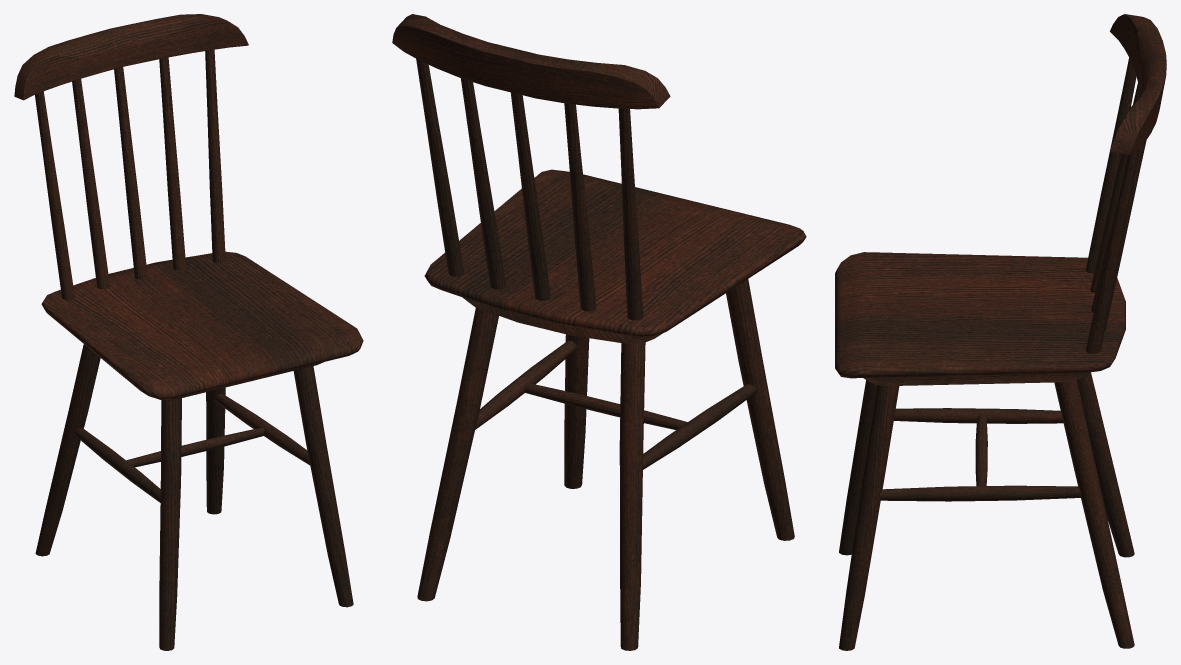
File: Chair_geo.fbx
The picture shows the model from 3 angles, left to right: view 1: azimuth 30°, elevation 25°; view 2: azimuth 150°, elevation 25°; view 3: azimuth 270°, elevation 25°; orthographic projection. The views are drawn at different scales.
Visible parts, largest first — view 1: Chair; view 2: Chair; view 3: Chair.
Boxes of the visible parts, x1,y1,x2,y2 form: Chair: (14, 14, 363, 650); Chair: (392, 14, 806, 650); Chair: (835, 14, 1166, 650).
Size of the model in its own units: 80.14 by 167 by 93.34.
